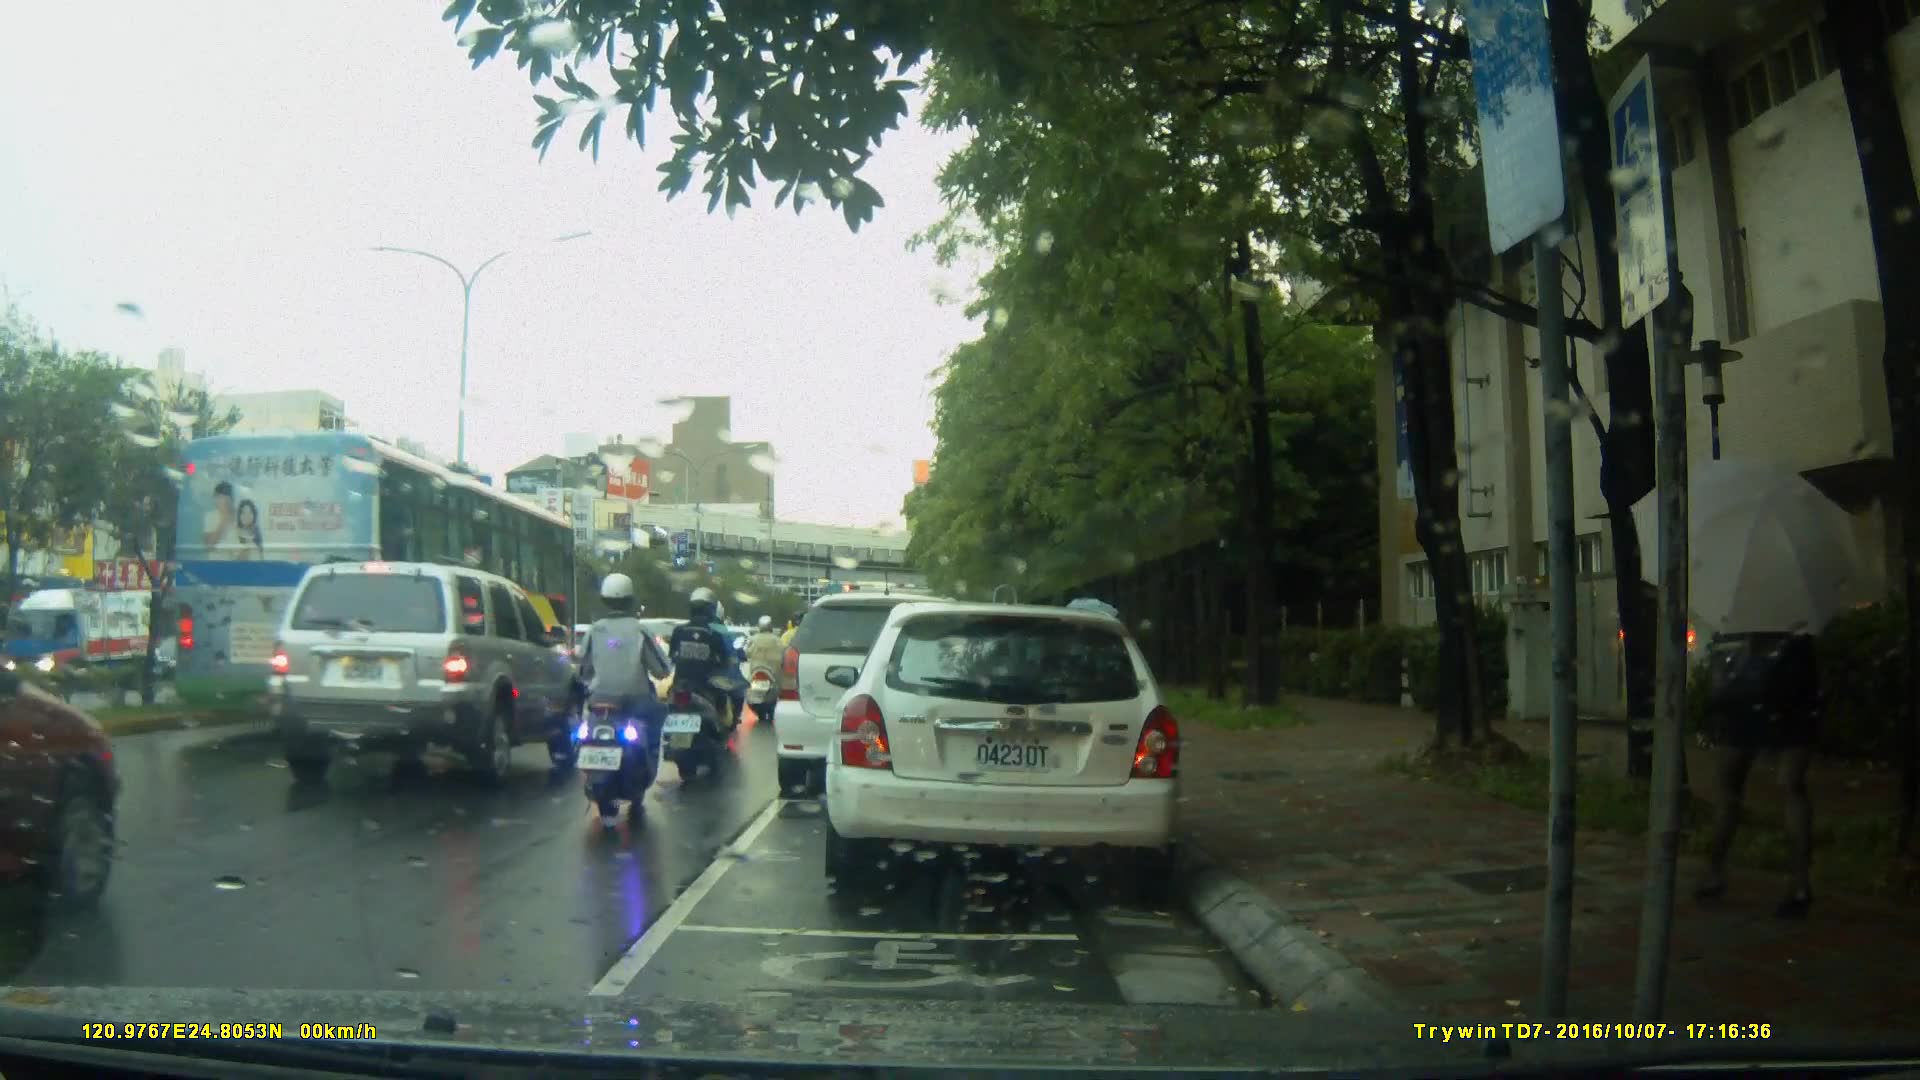pedestrian: (1707, 516, 1844, 922)
rider: (578, 570, 671, 817), (658, 585, 734, 790), (693, 598, 755, 739), (749, 610, 792, 727)
vehicle: (162, 428, 583, 739), (835, 594, 1194, 898), (264, 557, 591, 788), (776, 590, 1026, 784), (1, 586, 183, 700)
